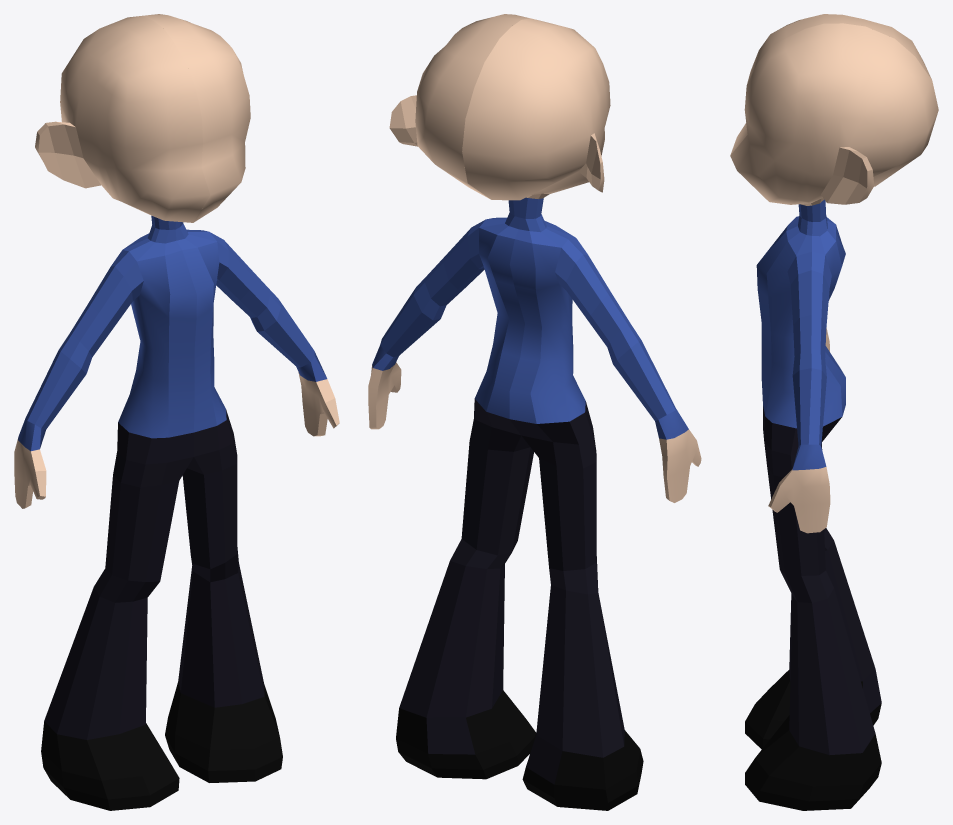
Rendered from Oliver.fbx.
The picture shows the model from 3 angles, left to right: view 1: azimuth 30°, elevation 25°; view 2: azimuth 150°, elevation 25°; view 3: azimuth 270°, elevation 25°; orthographic projection. The views are drawn at different scales.
Visible parts, largest first — view 1: cuerpo; view 2: cuerpo; view 3: cuerpo.
Part boxes in pixels (<box>): cuerpo: <box>14,14,339,810</box>; cuerpo: <box>368,14,701,810</box>; cuerpo: <box>730,14,938,810</box>.
Size of the model in its own units: 62.09 by 144 by 36.96.
